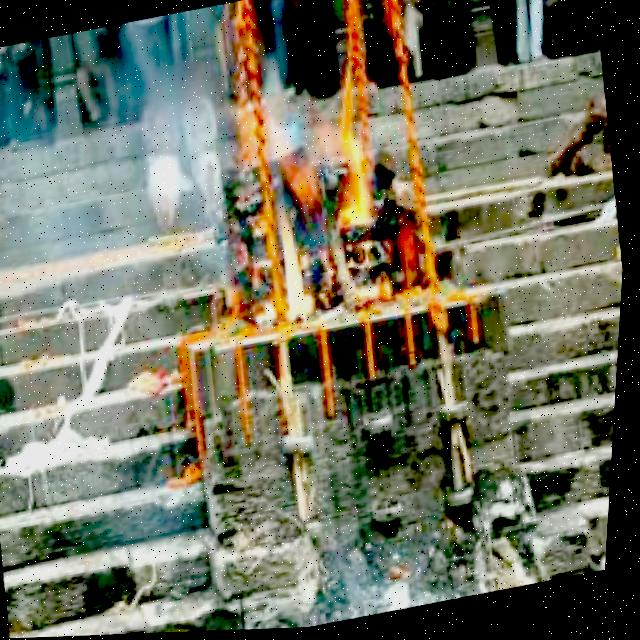Smoke: (236, 78, 402, 335)
